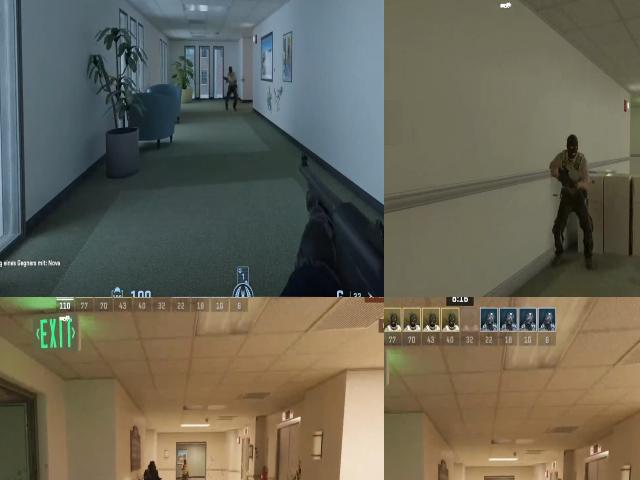CT: (142, 461, 159, 480)
CT-Head: (146, 460, 158, 476)
T: (555, 125, 588, 212), (222, 61, 240, 115), (180, 457, 190, 480)
T-Head: (562, 127, 585, 161), (227, 64, 236, 76), (182, 459, 188, 466)
